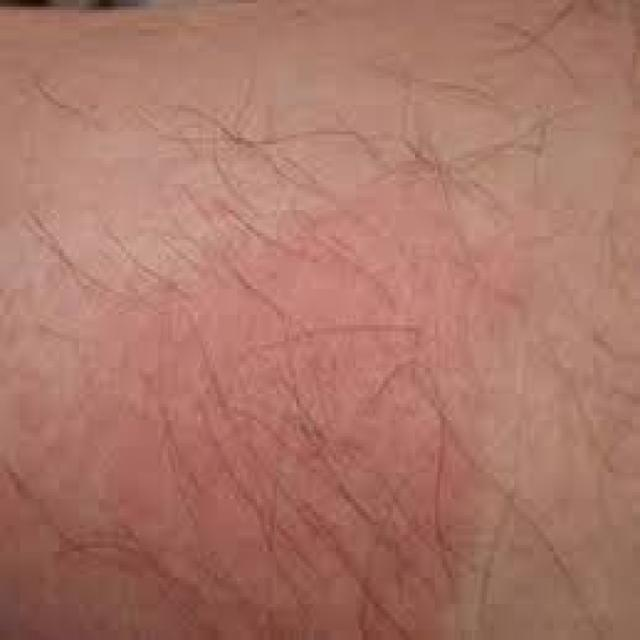kan emici bocekler: (1, 188, 490, 640)
